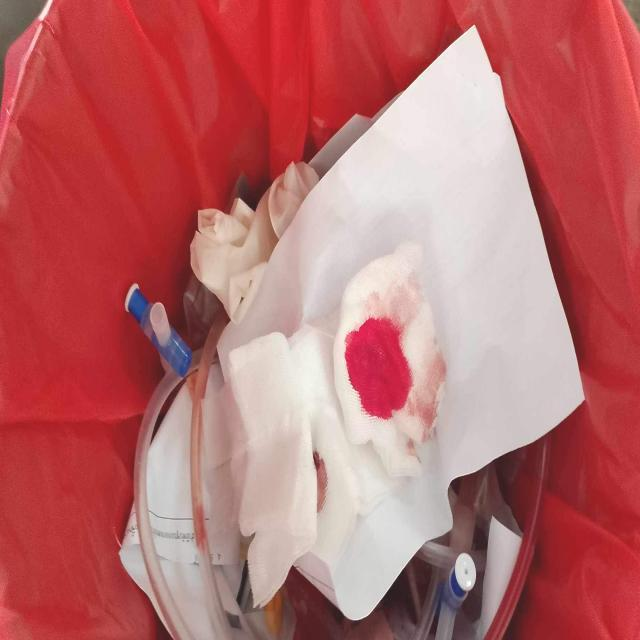General: (116, 23, 585, 638)
Sharps: (123, 281, 194, 379), (433, 551, 477, 638)
